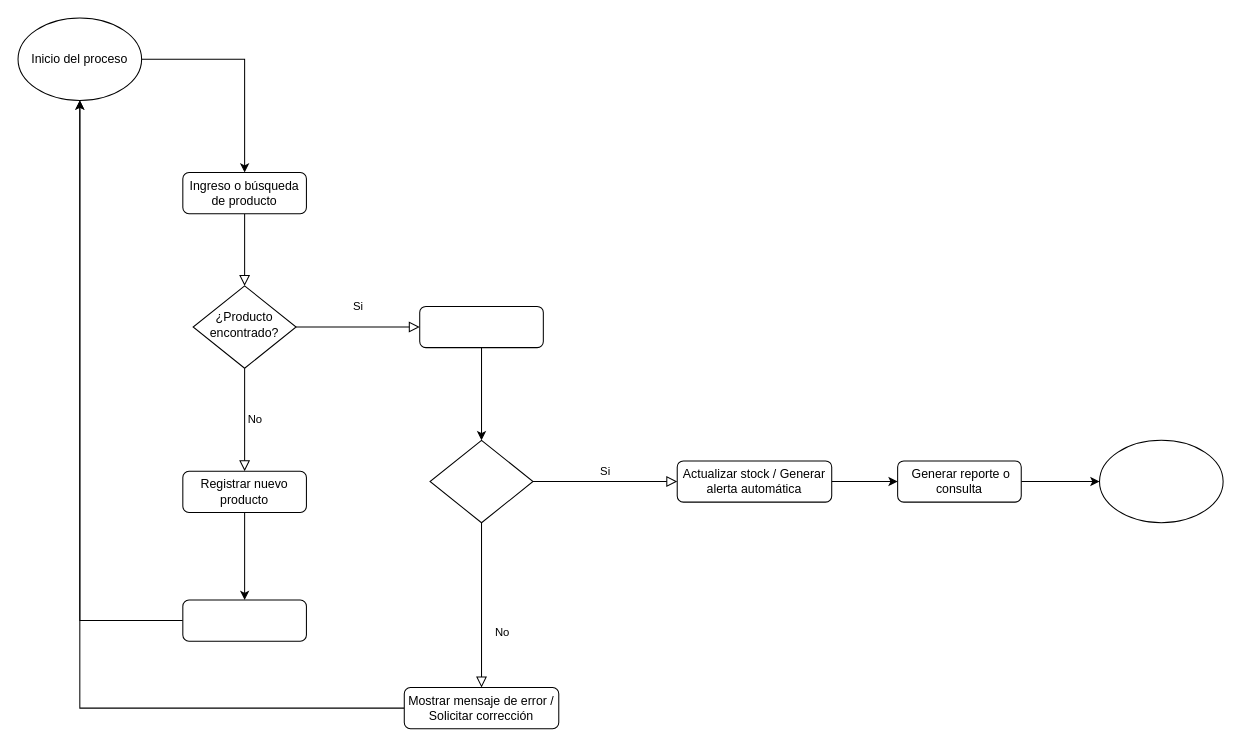
The diagram is 1241 pixels wide and 747 high, and some of its shapes have lost their labels. Each missing label, with the centre of its shape:
"Confirmar registro exitoso" goes at (244,620).
"Fin del proceso" goes at (1160,481).
"Mostrar datos y validar información" goes at (481,326).
"¿Datos válidos?" goes at (481,481).
